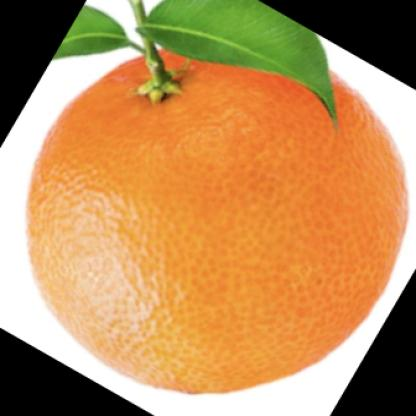fresh: (26, 42, 407, 394)
